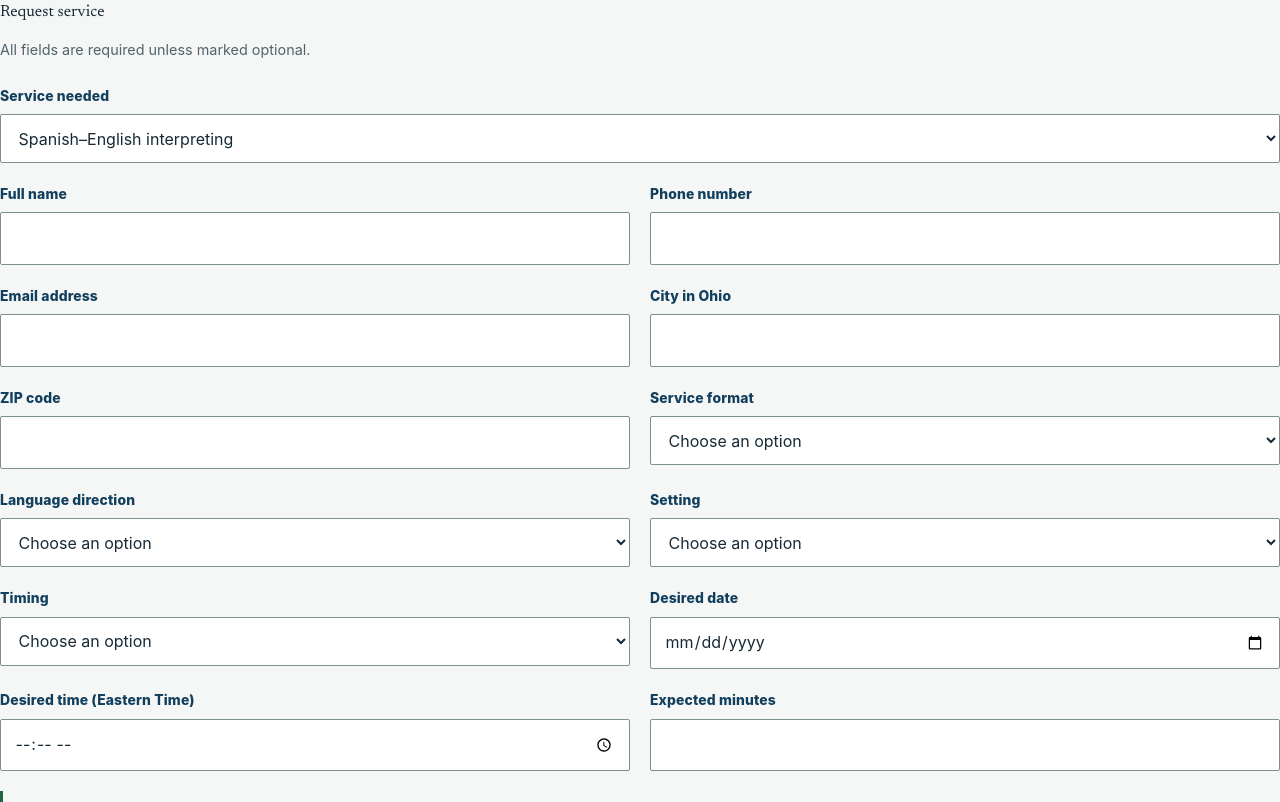
Test: accessible contact form › restores dynamic select values after an action failure
The image size is (1280, 802).
Select "In person" in the dropdown labelled "Service format" at [965, 441], box [650, 416, 1279, 465]
(page scrolled)
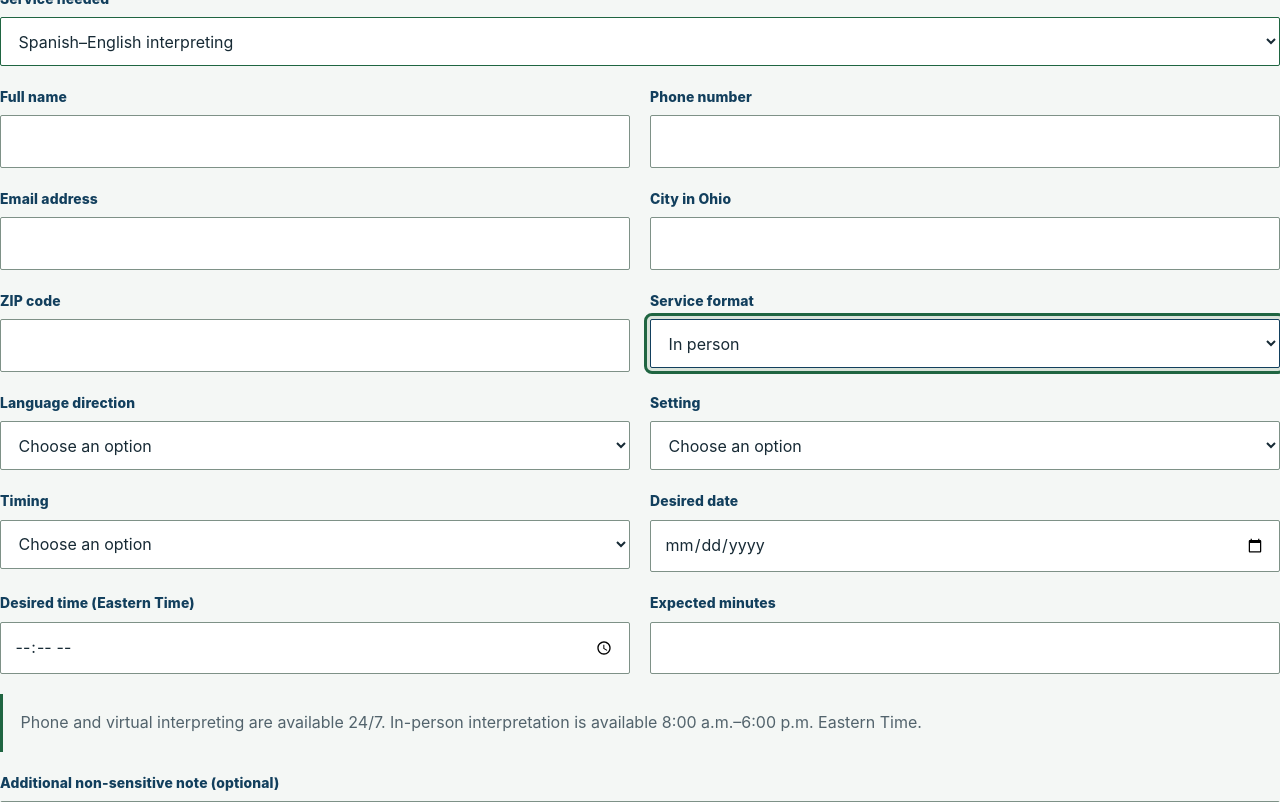
Submit the form "Request service"
(page scrolled)
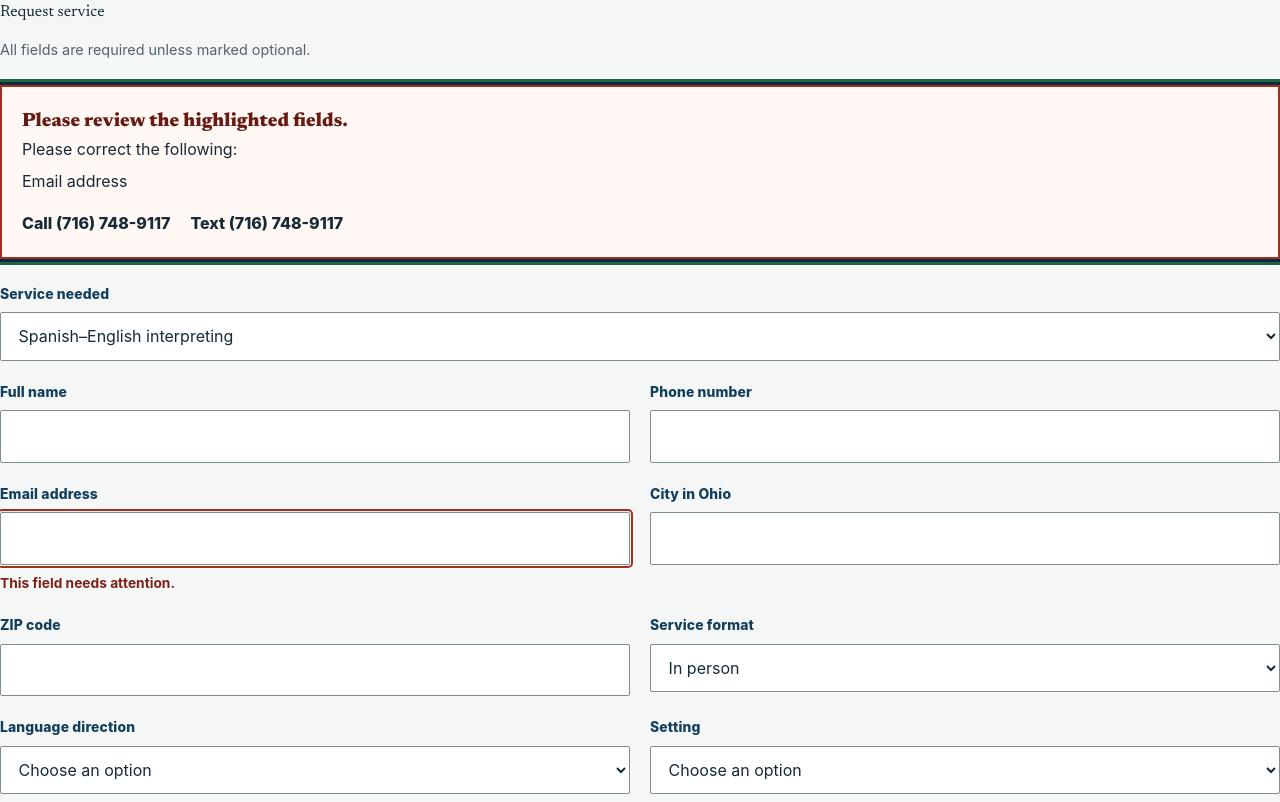
Expected: the message is shown, [0, 85, 1279, 258]
